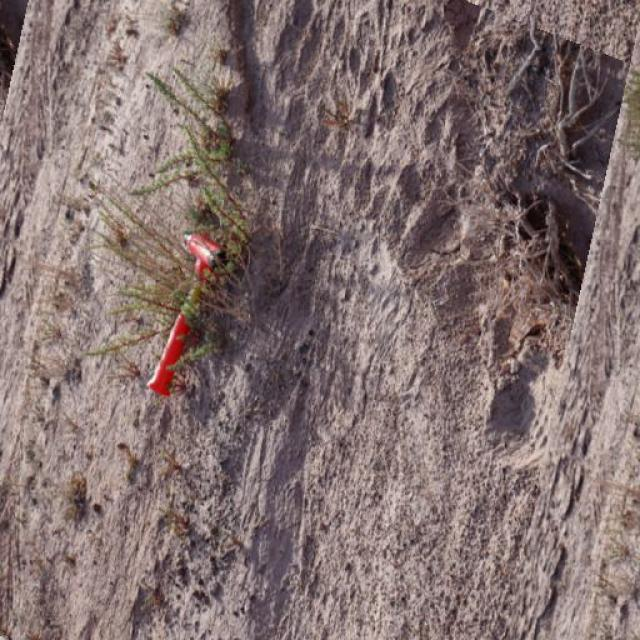mallet: (145, 230, 227, 398)
